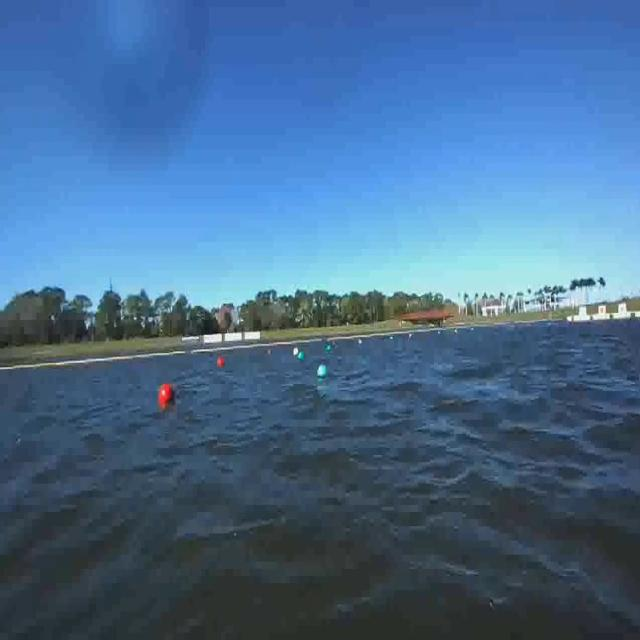green-buoy: (318, 363, 328, 378), (297, 352, 303, 362)
red-buoy: (158, 382, 176, 406), (217, 356, 225, 368)
